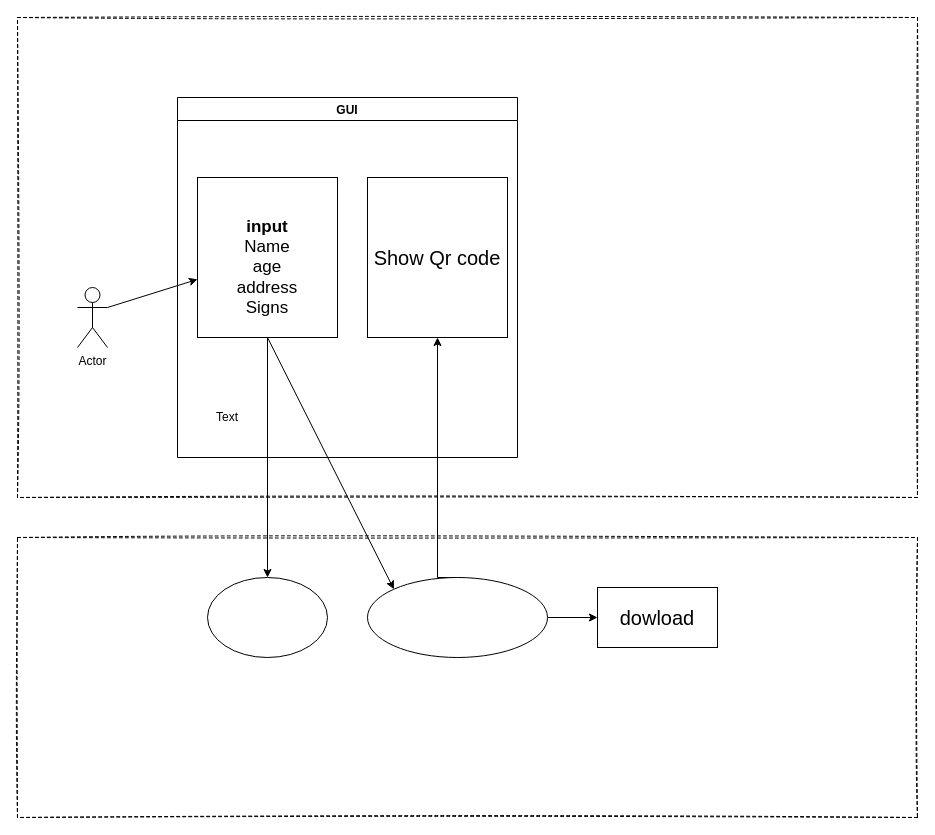
Image size: 935x835. Some labels were removed from this diagram. The shapes that lost their labels are listed below. From the top down, each one's centre as x and y in pixels, then its label:
At [267,617]: "sqlite".
At [457,617]: "Create Qr code".
